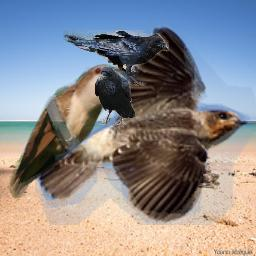Crow: (63, 30, 169, 86), (94, 66, 135, 125)
Cuckoo: (5, 64, 122, 201)
Swallow: (35, 23, 256, 225)
